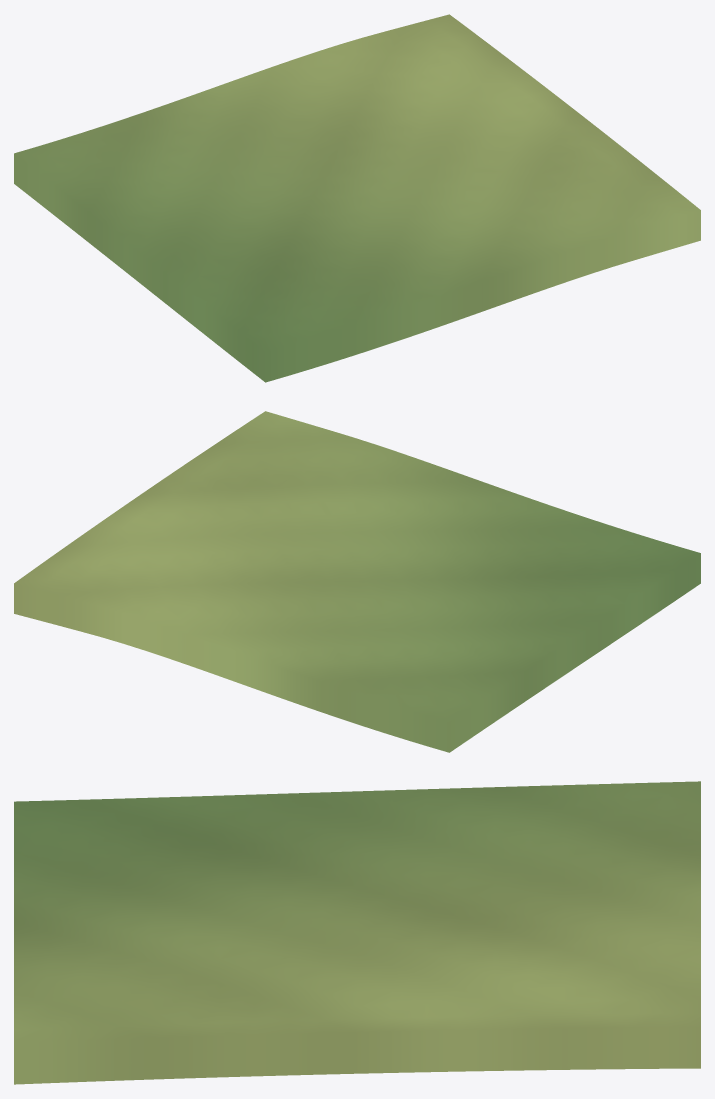
The picture shows the model from 3 angles, top to bottom: view 1: azimuth 30°, elevation 25°; view 2: azimuth 150°, elevation 25°; view 3: azimuth 270°, elevation 25°; orthographic projection. The views are drawn at different scales.
Parts seen in each view (by area): view 1: terrain; view 2: terrain; view 3: terrain.
Part boxes in pixels (left/top/right/bottom): terrain: left=14, top=14, right=700, bottom=382; terrain: left=14, top=411, right=700, bottom=752; terrain: left=14, top=781, right=700, bottom=1084.
Bounding box in the file's own units: 30 × 5.13 × 30.
